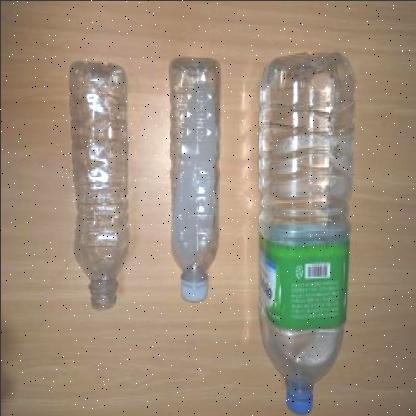Plastic Bottle: (258, 52, 354, 414), (68, 61, 126, 309), (168, 57, 218, 301)
